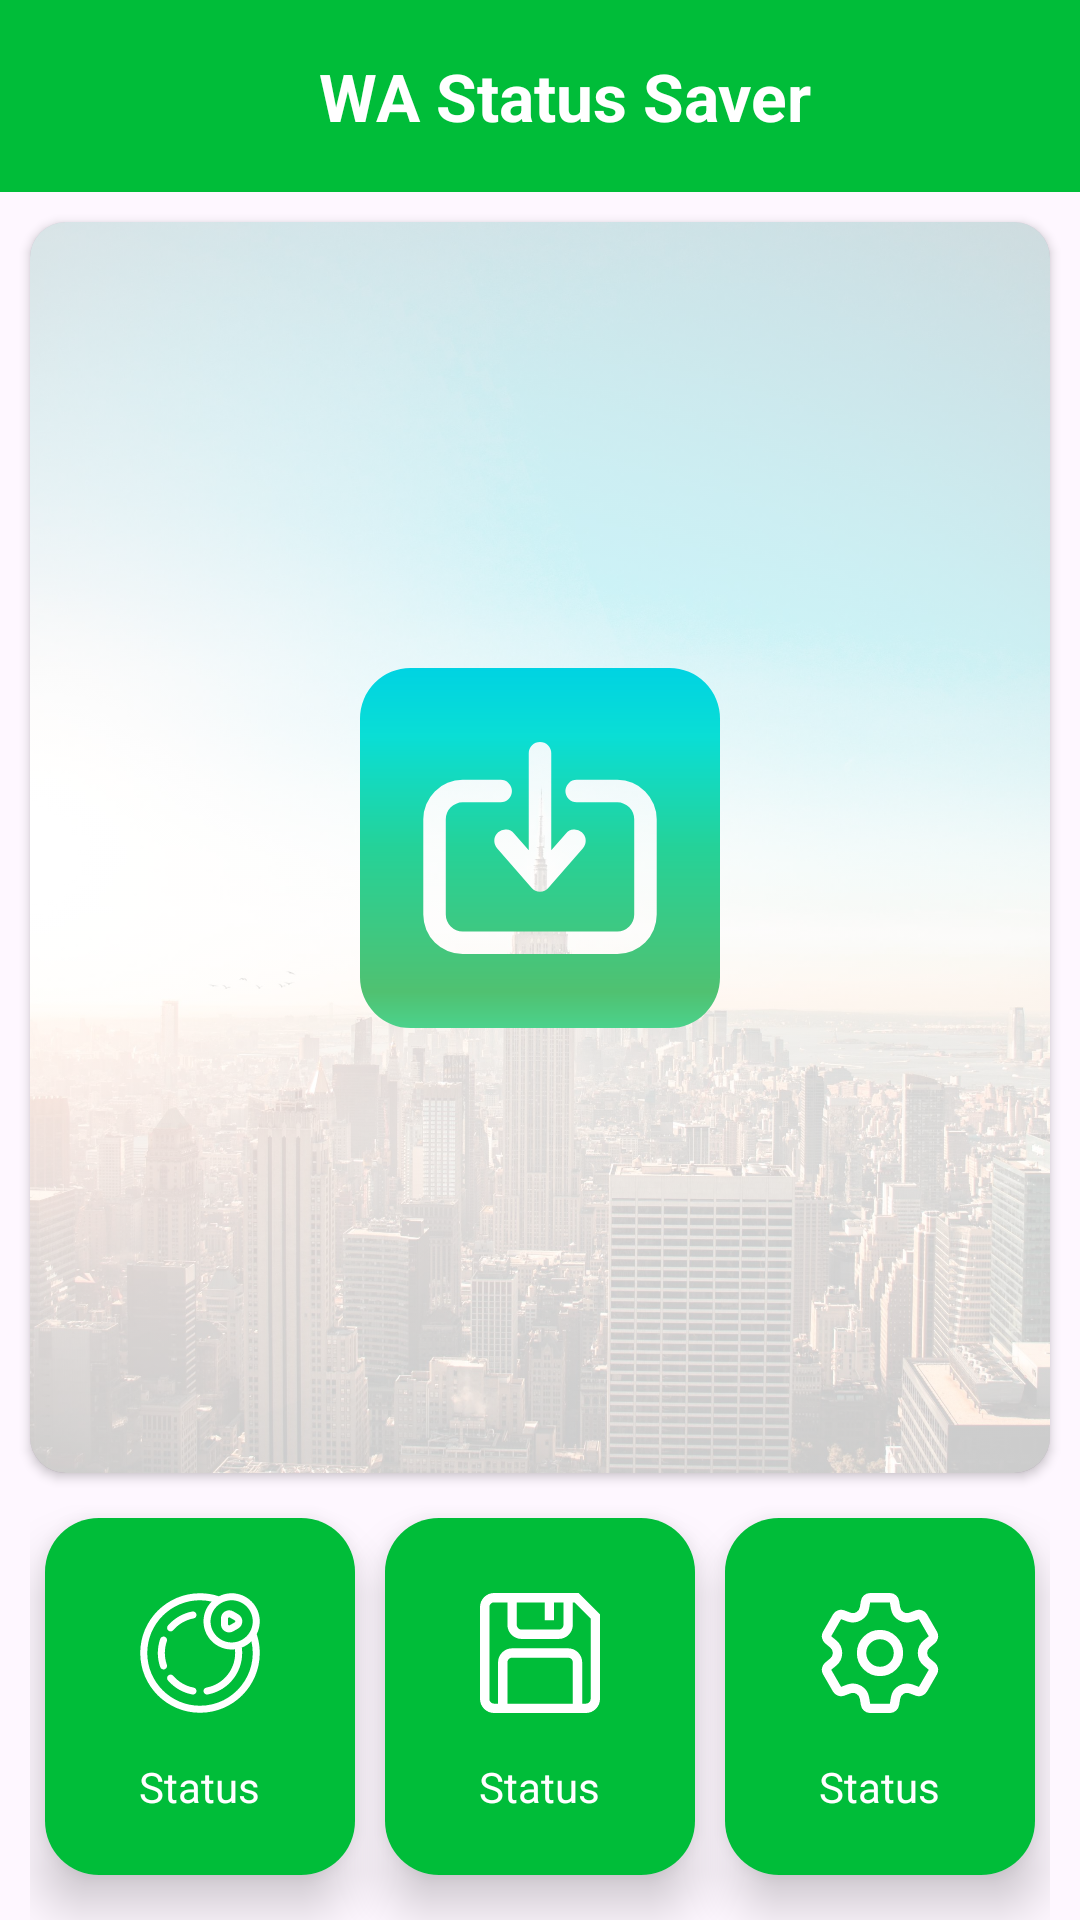

Locate icon controls on the screen. Image size 1080*1920, boxes as bbox=(x1, y1, x2, y2).
save: bbox=(480, 1593, 600, 1713)
settings: bbox=(821, 1593, 939, 1713)
